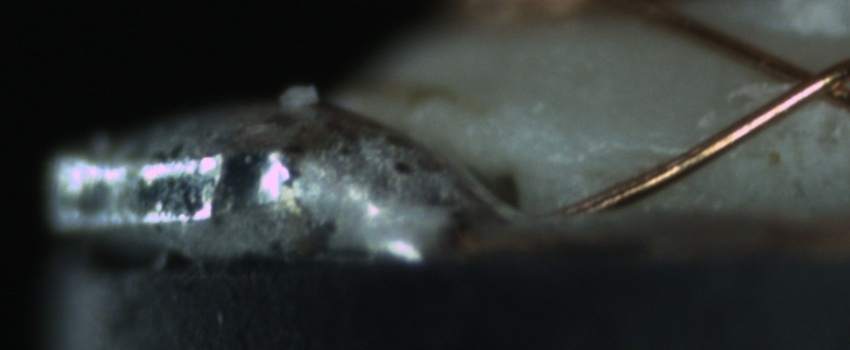CL: (761, 48, 848, 108)
DL: (560, 123, 699, 181)
